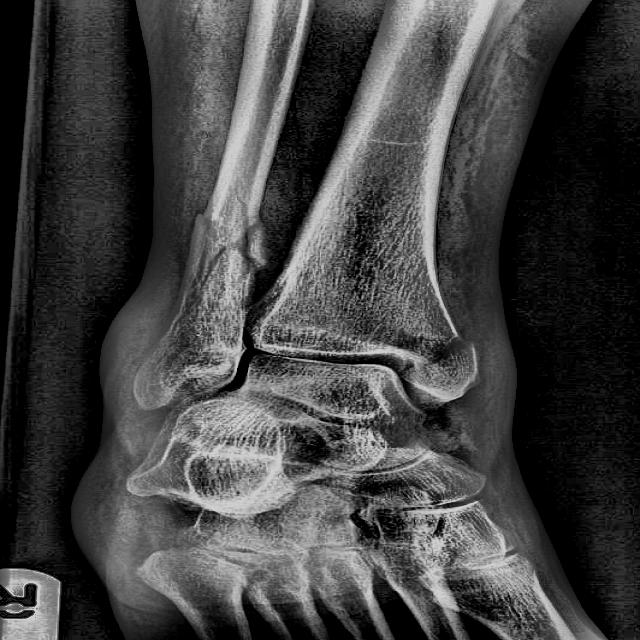messed_up_angle: (183, 205, 268, 297)
